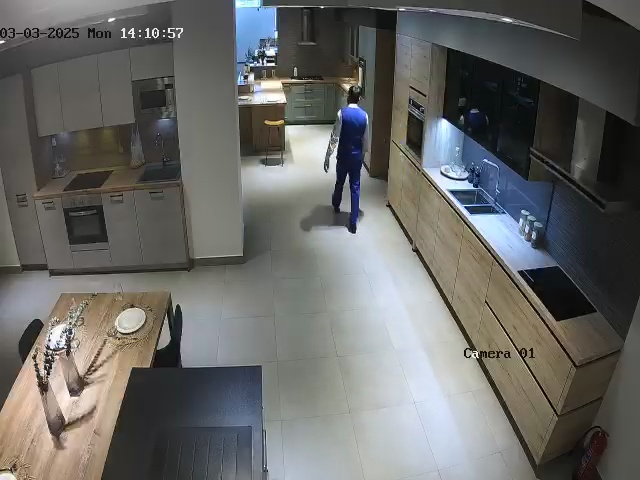employee: (324, 85, 369, 234)
